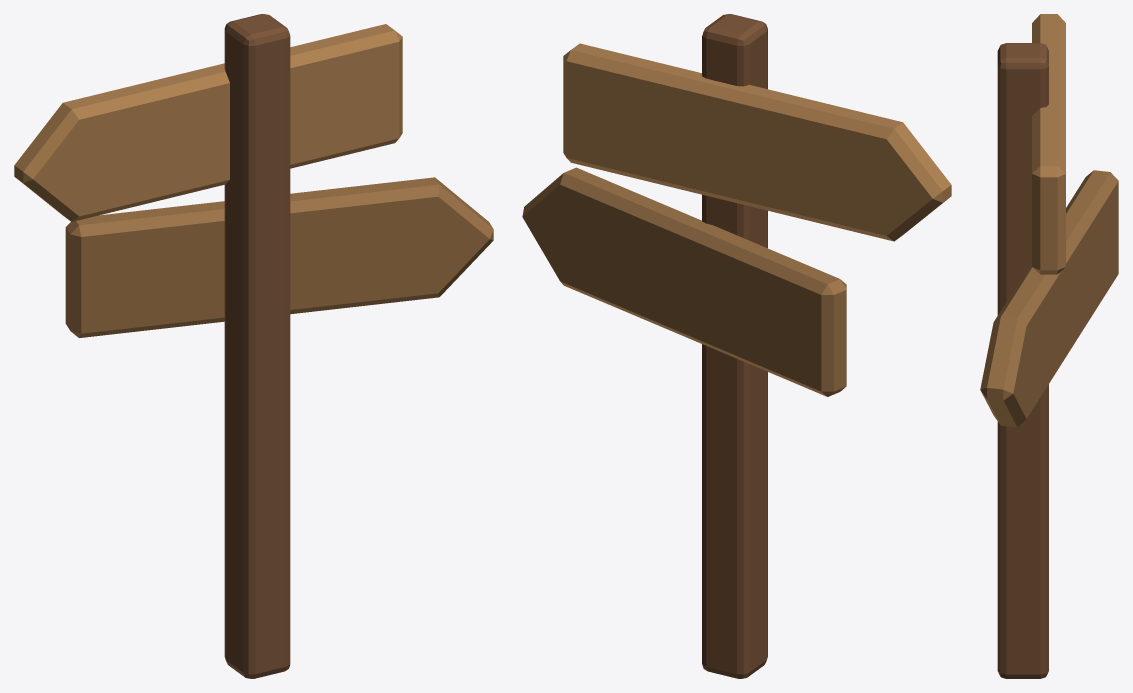
Rendered from signpost.fbx.
3 views of the same model, side by side, from view 1: azimuth 30°, elevation 25°; view 2: azimuth 150°, elevation 25°; view 3: azimuth 270°, elevation 25° (orthographic). The views are drawn at different scales.
Parts seen in each view (by area): view 1: signpost; view 2: signpost; view 3: signpost.
Part boxes in pixels (<box>): signpost: <box>14,14,493,678</box>; signpost: <box>522,14,951,678</box>; signpost: <box>980,14,1118,678</box>.
Size of the model in its own units: 0.5802 by 0.8 by 0.1618.
